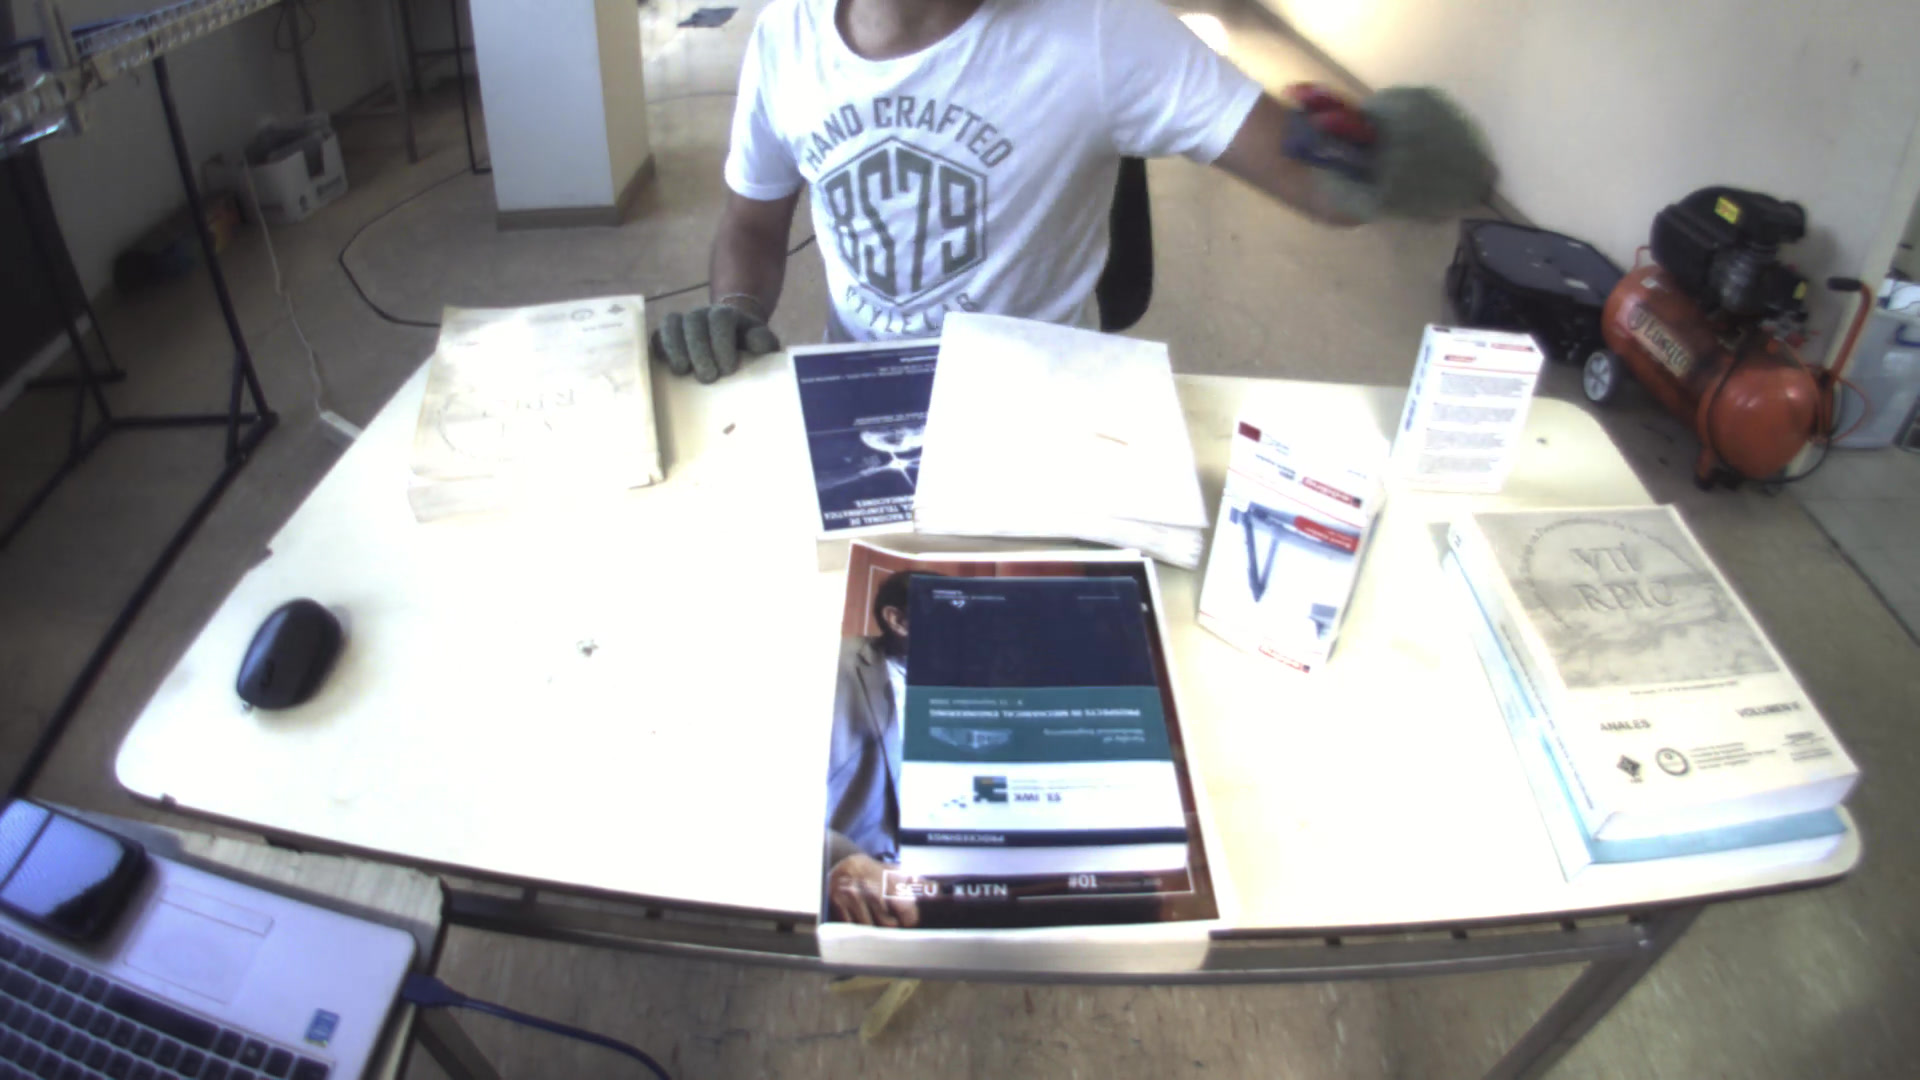hand: (1331, 94, 1503, 243), (636, 306, 783, 382)
